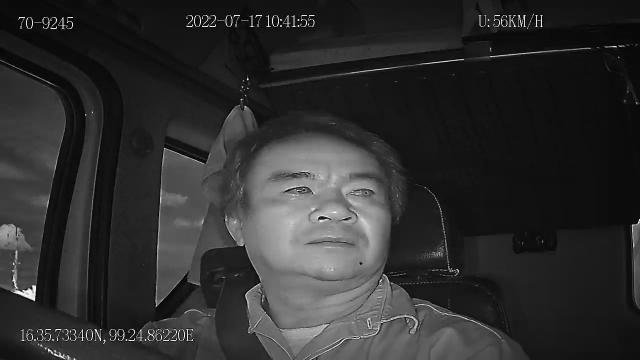SafeDriving: (270, 175, 321, 207), (339, 176, 385, 204)
Seatbelt: (213, 276, 274, 360)
